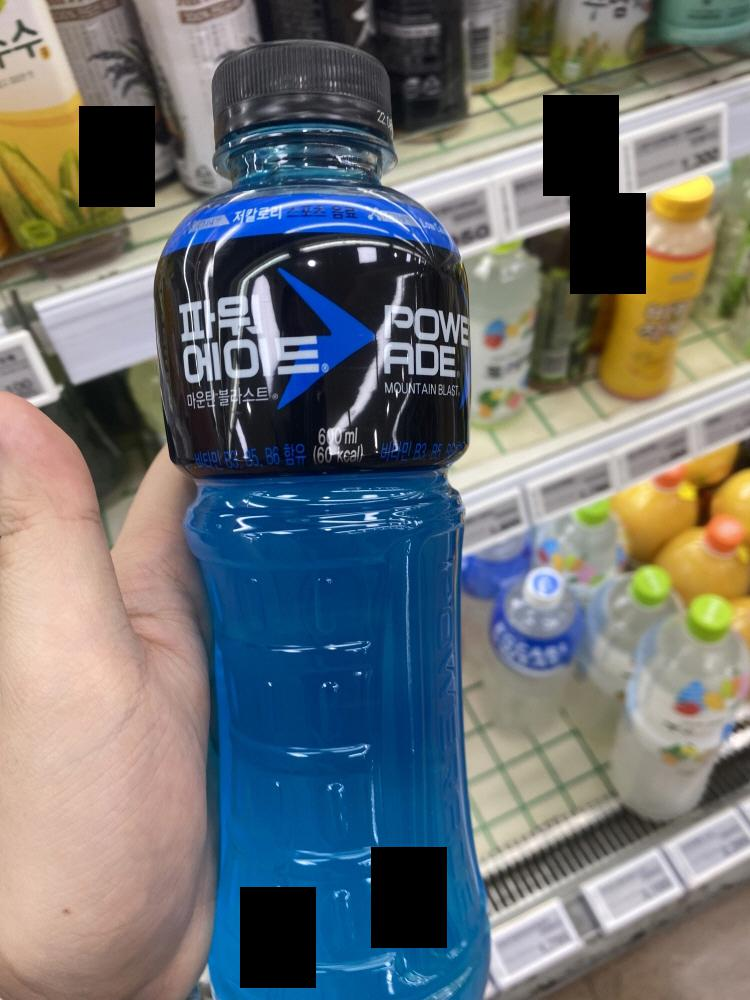powerade_mountainblast: (143, 45, 543, 999)
